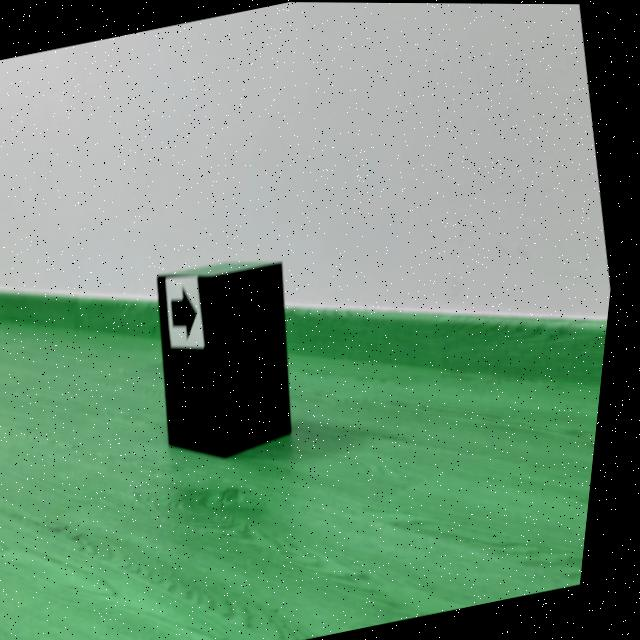RIGHT: (177, 286, 203, 337)
